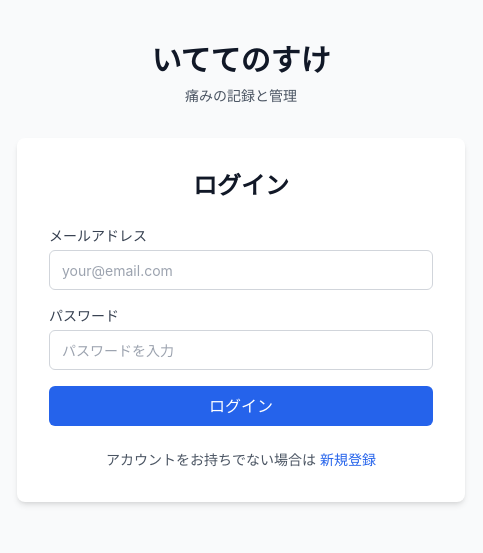
it: Login Page › should handle network errors gracefully
Type "test@example.com" into the field labelled "メールアドレス" at (241, 270), box [49,250,433,290]
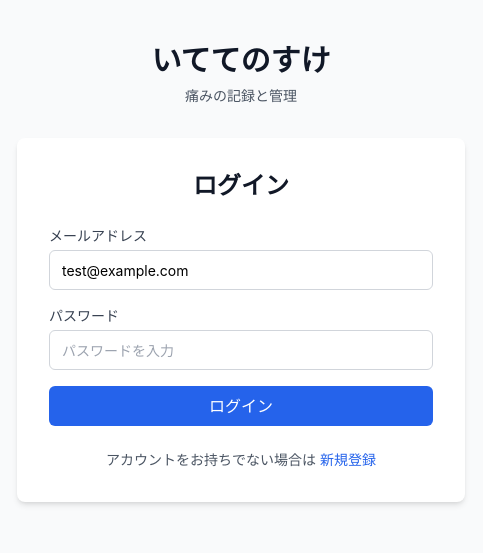
Type "password123" into the password field labelled "パスワード" at (241, 350), box [49,330,433,370]
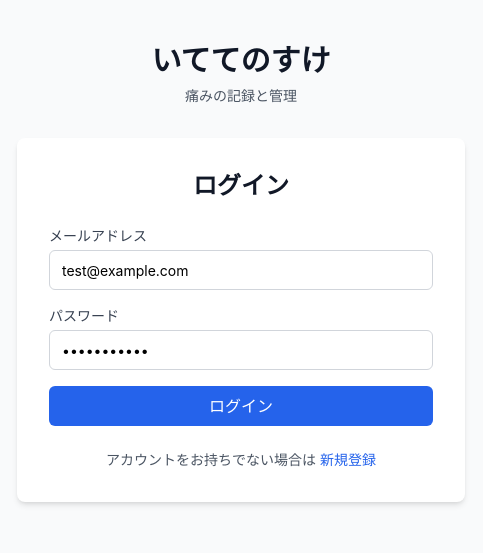
Click the button "ログイン" at (241, 406), box [49,386,433,426]
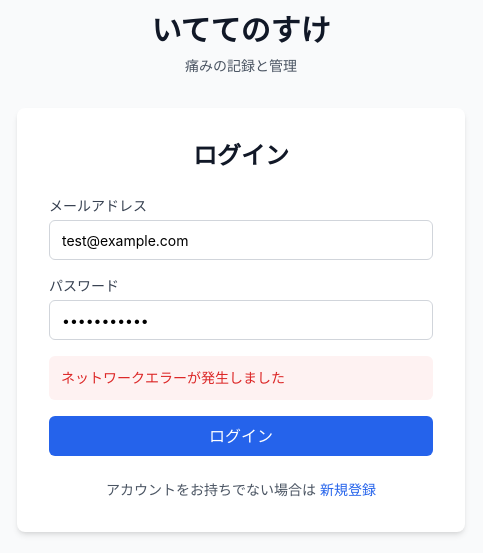
Check: the text "ネットワークエラーが発生しました" is shown, box [61,369,285,386]
